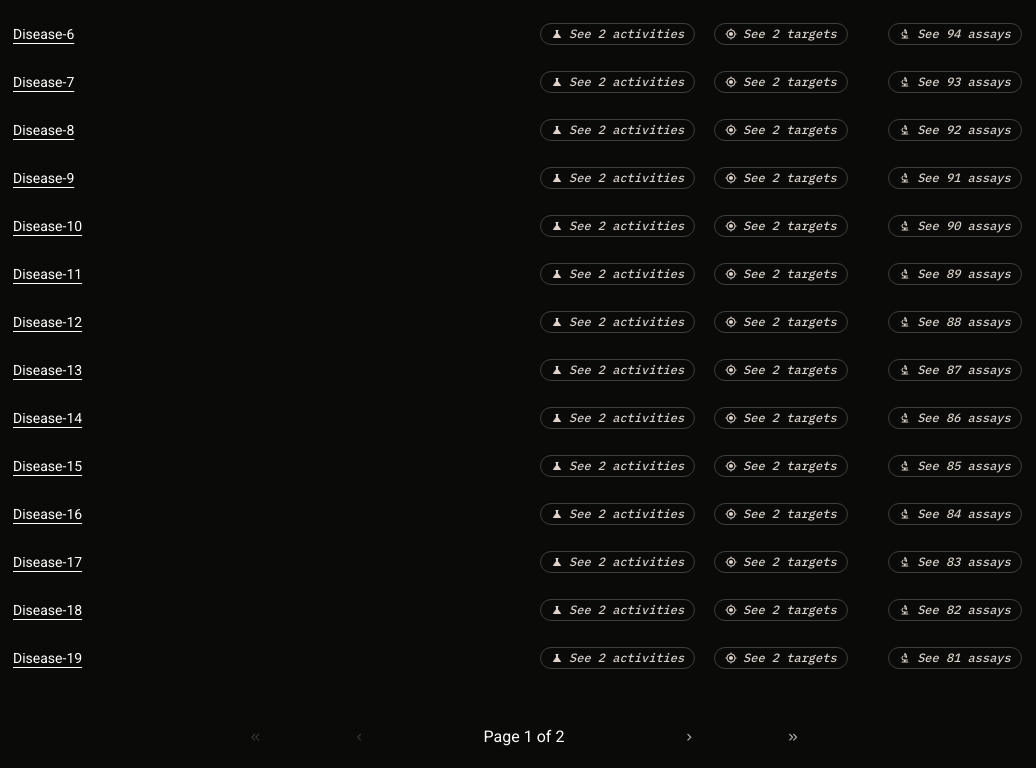
Test: pagination › shows 20 rows a page and pages through the rest
The width and height of the screenshot is (1036, 768).
(page scrolled)
Click the button named "next page" at (689, 737), box [670,718,708,756]
(page scrolled)
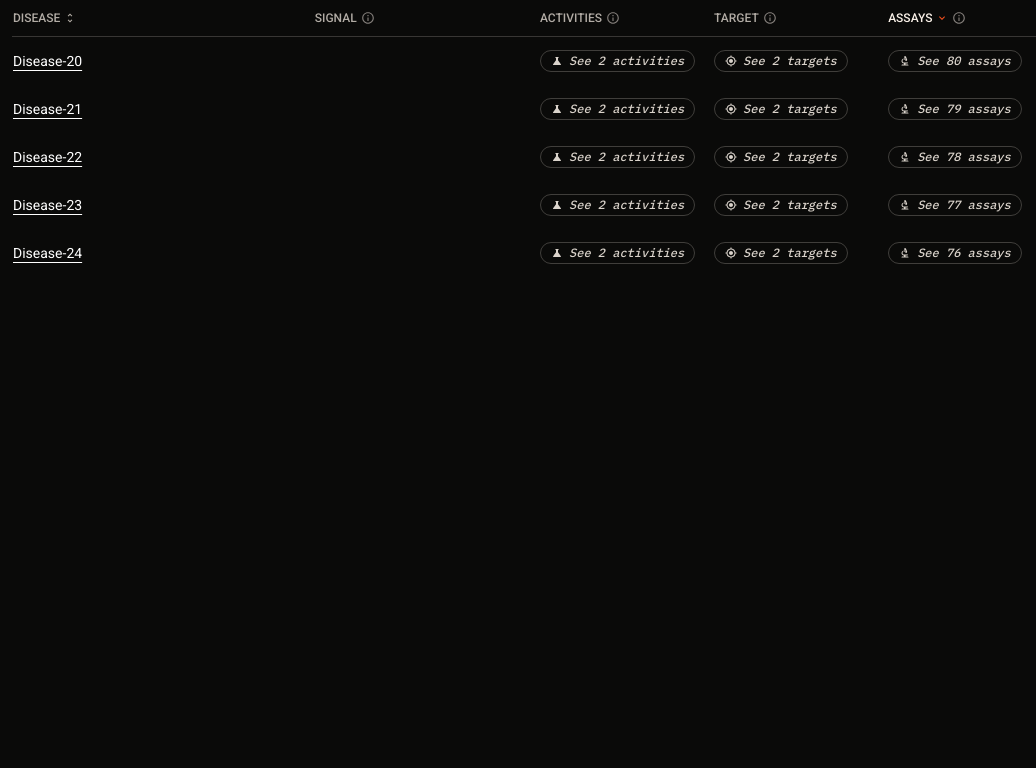
Now the link "disease-24" is shown, box [13,242,82,262]
